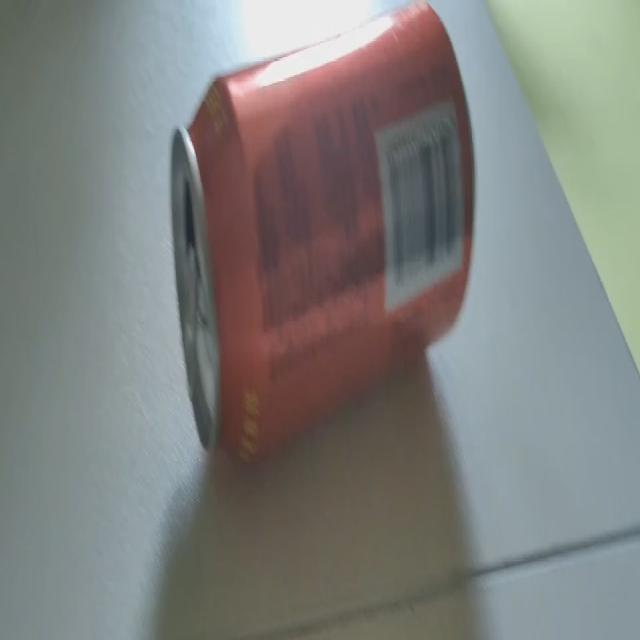can: (167, 4, 478, 492)
